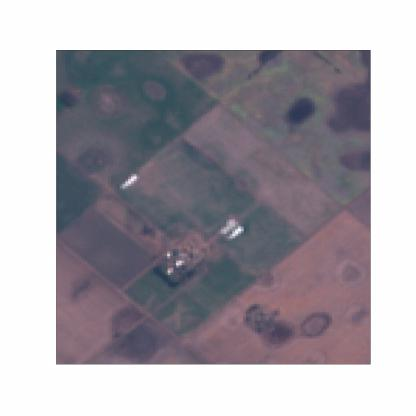silobolsa: (220, 215, 244, 243), (121, 173, 139, 191)
